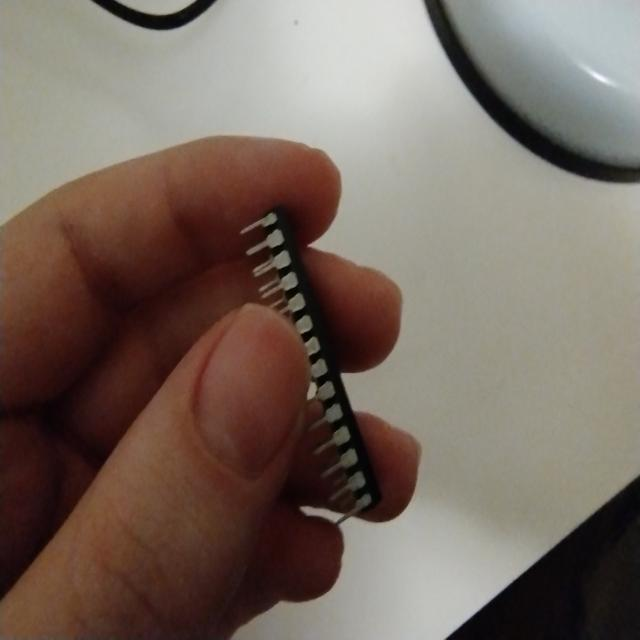atmega: (237, 202, 383, 525)
